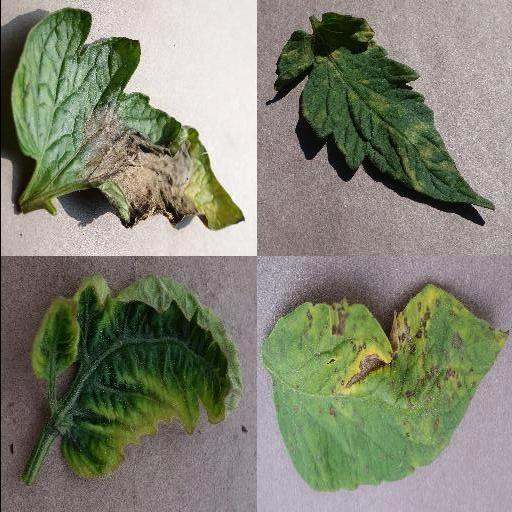Late Blight: (9, 5, 245, 231)
Leaf Mold: (276, 13, 496, 211)
Septoria: (259, 286, 509, 490)
Yellow Leaf Curl Virus: (33, 277, 243, 481)
